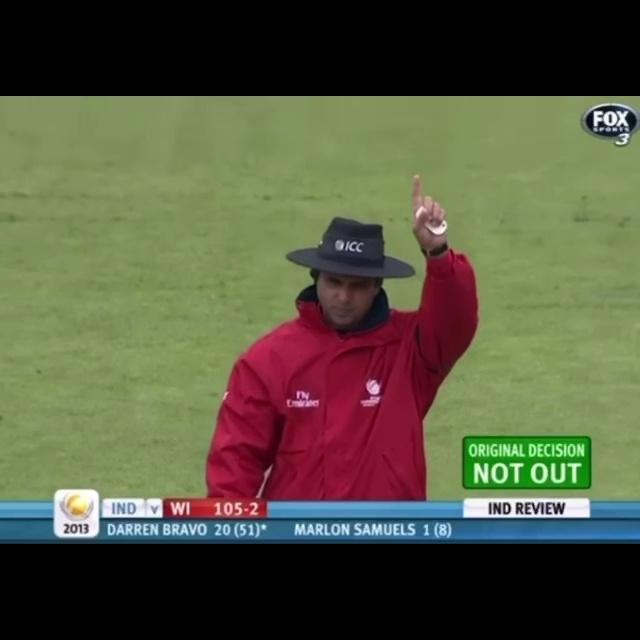umpire: (176, 165, 550, 440)
